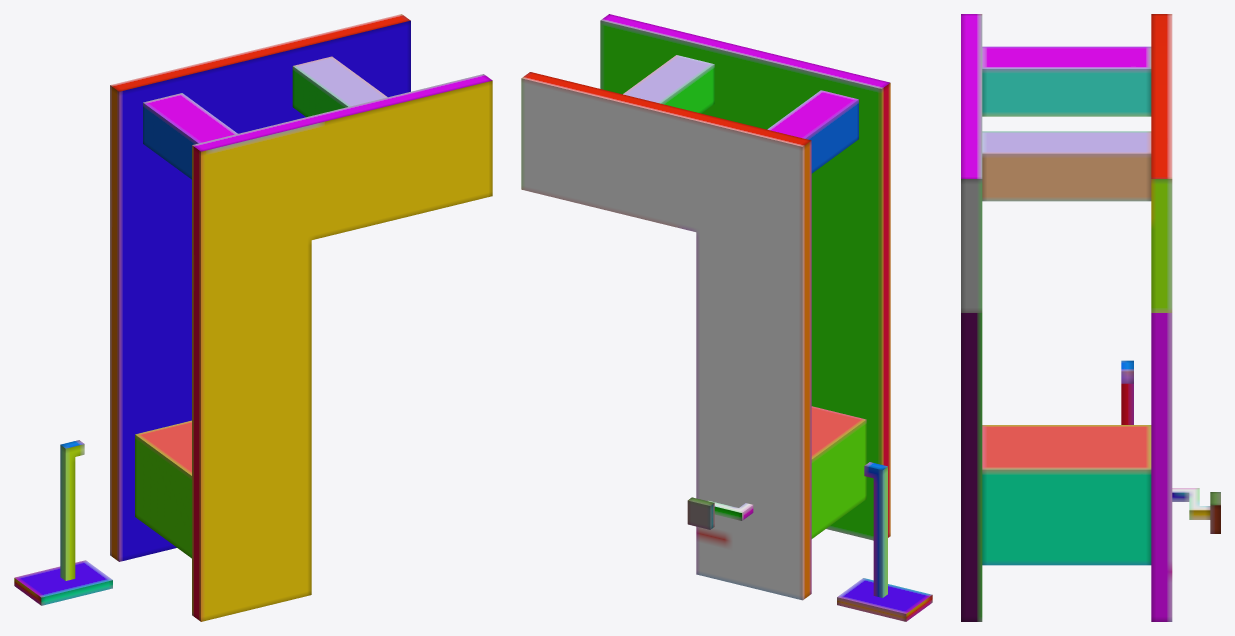
File: stone_crusher.obj
3 renders of one model, left to right at view 1: azimuth 30°, elevation 25°; view 2: azimuth 150°, elevation 25°; view 3: azimuth 270°, elevation 25°, orthographic. The views are drawn at different scales.
Parts seen in each view (by area): view 1: holder_Cube.016, coil_rotating_1_Cube.001, coil_rotating_2_Cube.014, coil_rotating_3_Cube.015, lever_holder_Cube.011, lever_Cube.009; view 2: holder_Cube.016, coil_rotating_1_Cube.001, coil_rotating_2_Cube.014, coil_rotating_3_Cube.015, lever_holder_Cube.011, lever_Cube.009, hadle_Cube.012; view 3: holder_Cube.016, coil_rotating_1_Cube.001, coil_rotating_3_Cube.015, coil_rotating_2_Cube.014, hadle_Cube.012, lever_Cube.009.
Boxes of the visible parts, x1,y1,x2,y2 form: holder_Cube.016: (110, 14, 492, 621); coil_rotating_1_Cube.001: (135, 420, 191, 558); coil_rotating_2_Cube.014: (143, 93, 237, 179); coil_rotating_3_Cube.015: (292, 56, 387, 116); lever_holder_Cube.011: (14, 560, 112, 605); lever_Cube.009: (60, 440, 84, 580); holder_Cube.016: (521, 14, 890, 600); coil_rotating_1_Cube.001: (811, 406, 866, 538); coil_rotating_2_Cube.014: (767, 90, 858, 173); coil_rotating_3_Cube.015: (623, 55, 714, 113); lever_holder_Cube.011: (837, 578, 932, 621); lever_Cube.009: (864, 462, 887, 597); hadle_Cube.012: (687, 497, 753, 529); holder_Cube.016: (961, 14, 1172, 621); coil_rotating_1_Cube.001: (982, 425, 1151, 565); coil_rotating_3_Cube.015: (982, 131, 1151, 201); coil_rotating_2_Cube.014: (982, 46, 1151, 116); hadle_Cube.012: (1172, 488, 1220, 533); lever_Cube.009: (1121, 360, 1133, 424).
Size of the model in its own units: 2.49 by 2.86 by 1.23.
